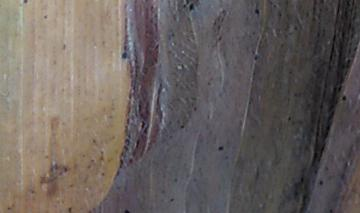tarspot: (121, 51, 129, 59), (189, 2, 195, 12), (253, 53, 259, 62), (341, 94, 347, 103), (318, 178, 324, 187), (254, 8, 261, 15), (42, 13, 49, 19), (64, 164, 68, 174), (123, 209, 133, 213), (67, 207, 73, 213), (287, 116, 293, 122), (218, 146, 224, 151), (193, 106, 198, 112), (170, 198, 175, 203), (293, 26, 298, 31), (278, 12, 282, 18), (181, 123, 184, 130), (185, 1, 190, 5), (329, 208, 333, 213), (23, 1, 29, 4)
